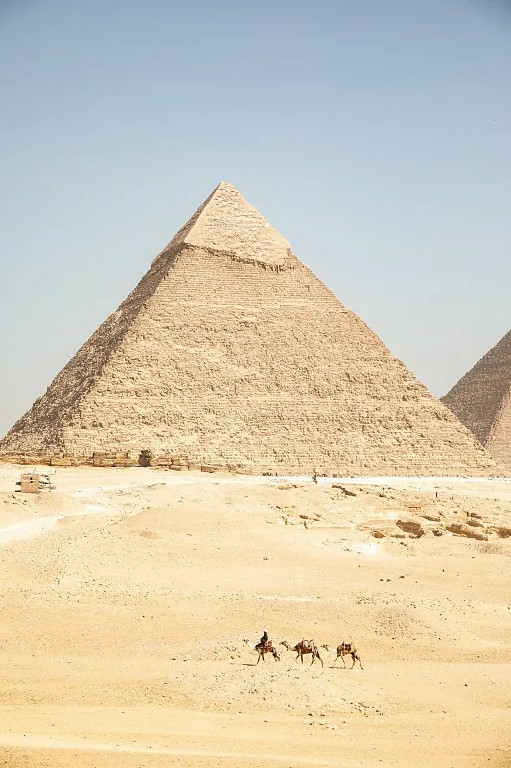Pyramid: (2, 180, 507, 478)
